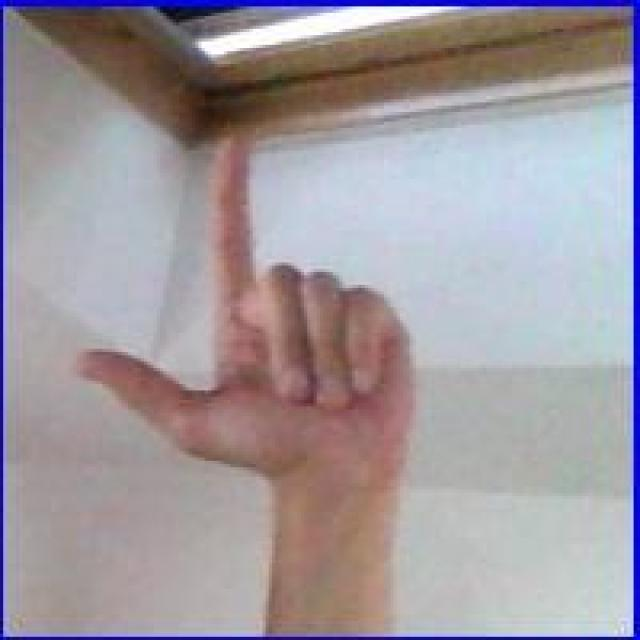L: (66, 128, 433, 506)
